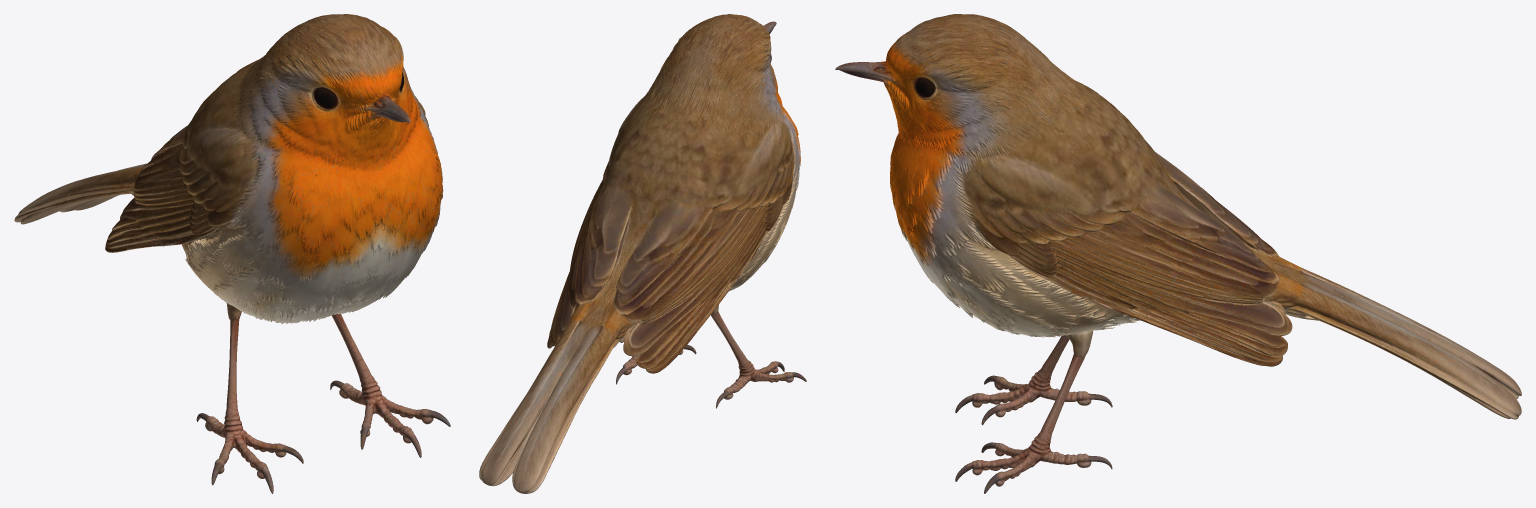
File: bird.meshopt.glb
The picture shows the model from 3 angles, left to right: view 1: azimuth 30°, elevation 25°; view 2: azimuth 150°, elevation 25°; view 3: azimuth 270°, elevation 25°; orthographic projection. The views are drawn at different scales.
Parts seen in each view (by area): view 1: bird; view 2: bird; view 3: bird.
Boxes of the visible parts, x1,y1,x2,y2 form: bird: [14, 14, 450, 493]; bird: [479, 14, 806, 493]; bird: [835, 14, 1521, 493].
Size of the model in its own units: 0.0532 by 0.0962 by 0.14.
1 material, 1 textured.
